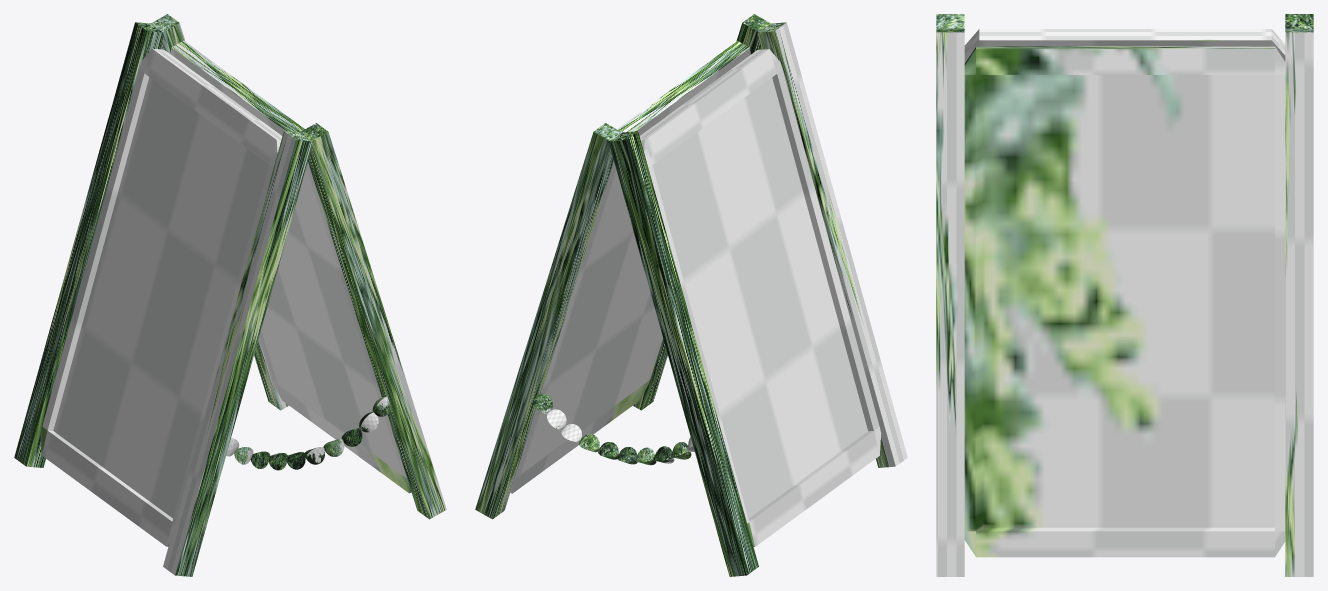
The model's file is cartell.fbx.
3 renders of one model, left to right at view 1: azimuth 30°, elevation 25°; view 2: azimuth 150°, elevation 25°; view 3: azimuth 270°, elevation 25°, orthographic. The views are drawn at different scales.
Parts seen in each view (by area): view 1: Cube.001, Cube, Cube.002, Cube.003, Cube.004, Sphere.001, Cube.005; view 2: Cube.001, Cube, Cube.004, Cube.005, Cube.002, Sphere.001, Cube.003; view 3: Cube, Cube.003, Cube.005, Cube.001.
Boxes of the visible parts, x1,y1,x2,y2 form: Cube.001: (40, 48, 282, 546); Cube: (170, 40, 411, 493); Cube.002: (163, 131, 312, 576); Cube.003: (299, 123, 446, 519); Cube.004: (14, 22, 163, 467); Sphere.001: (226, 397, 391, 470); Cube.005: (151, 14, 288, 410); Cube.001: (639, 49, 881, 546); Cube: (510, 41, 750, 493); Cube.004: (608, 131, 758, 576); Cube.005: (475, 123, 622, 519); Cube.002: (757, 22, 907, 467); Sphere.001: (533, 393, 694, 465); Cube.003: (633, 14, 770, 410); Cube: (964, 46, 1285, 557); Cube.003: (936, 28, 964, 576); Cube.005: (1285, 28, 1313, 576); Cube.001: (964, 29, 1285, 63).
Size of the model in its own units: 143 by 208 by 147.
